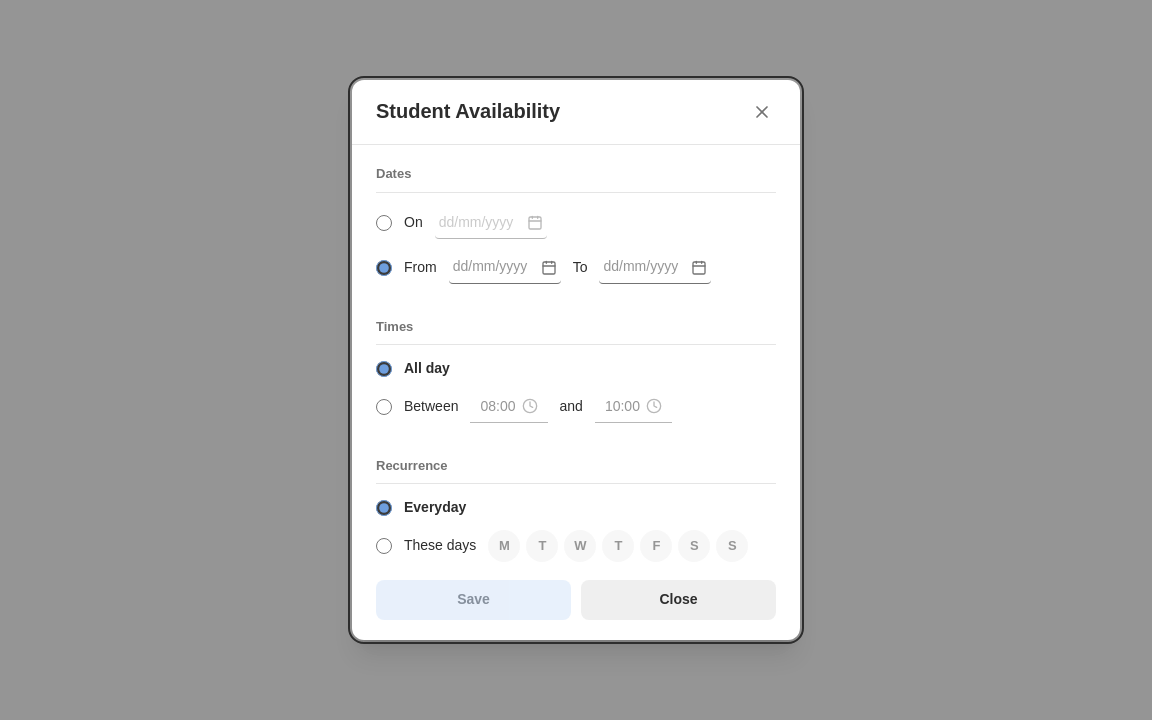
AvailabilityFormModal › rejects a badly formatted date (no separators) and shows an error
Click the radio button labelled "On": (384, 223) [376,215,392,231]
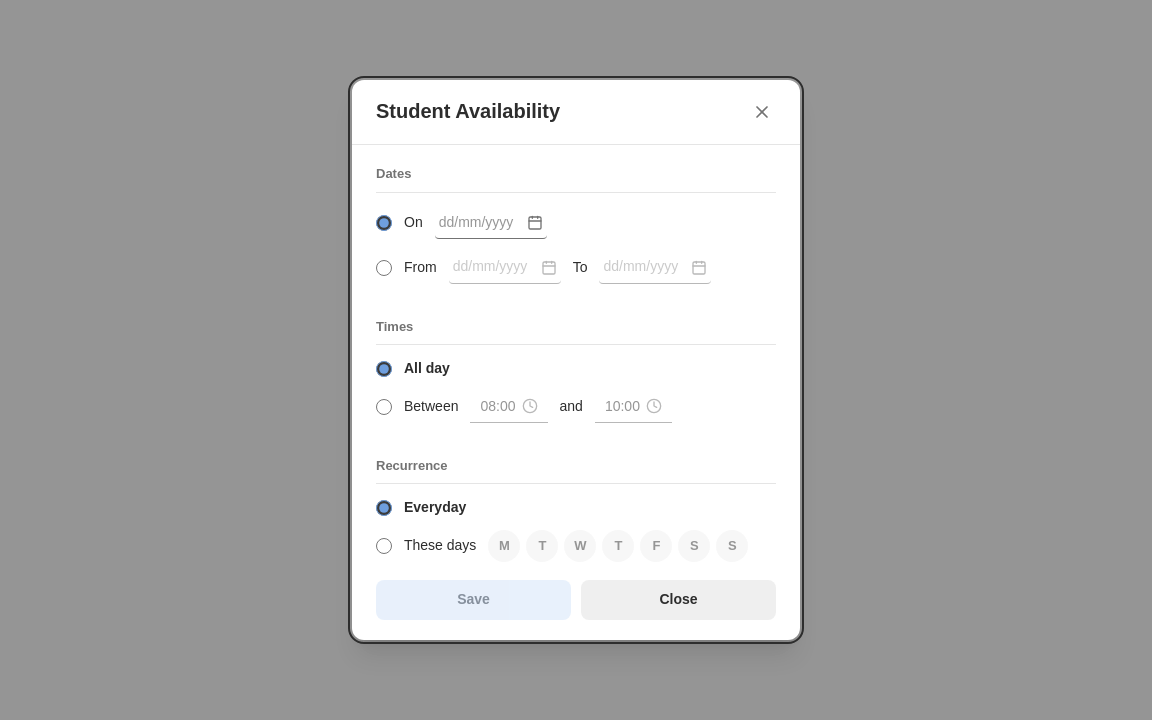
In the field named "Date": (491, 223) [435,207,547,239], type "22042026"
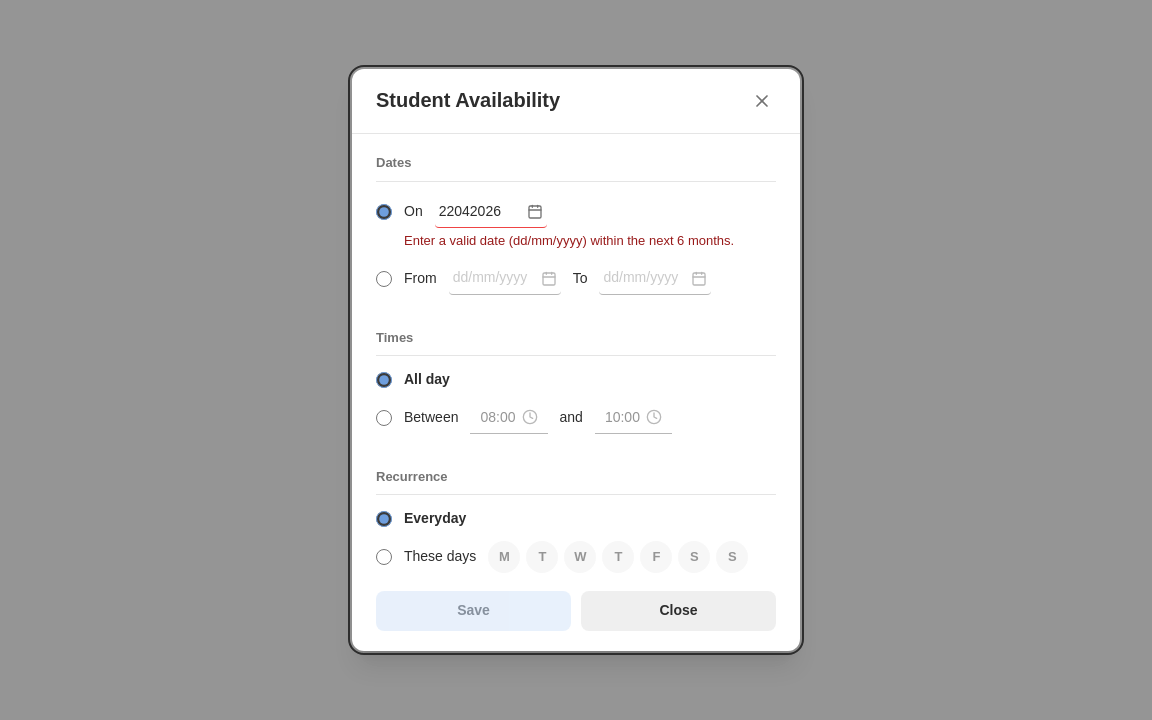
expect the button "Save" is disabled: met, box [376,591,571,631]
expect the text "Enter a valid date (dd/mm/yyyy) within the next 6 months." is shown: met, box [404,232,776,250]
